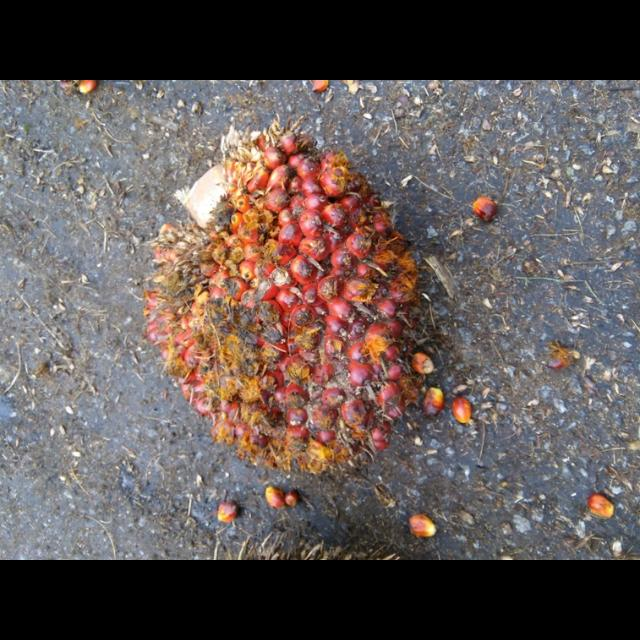Ripe: (146, 122, 430, 487)
